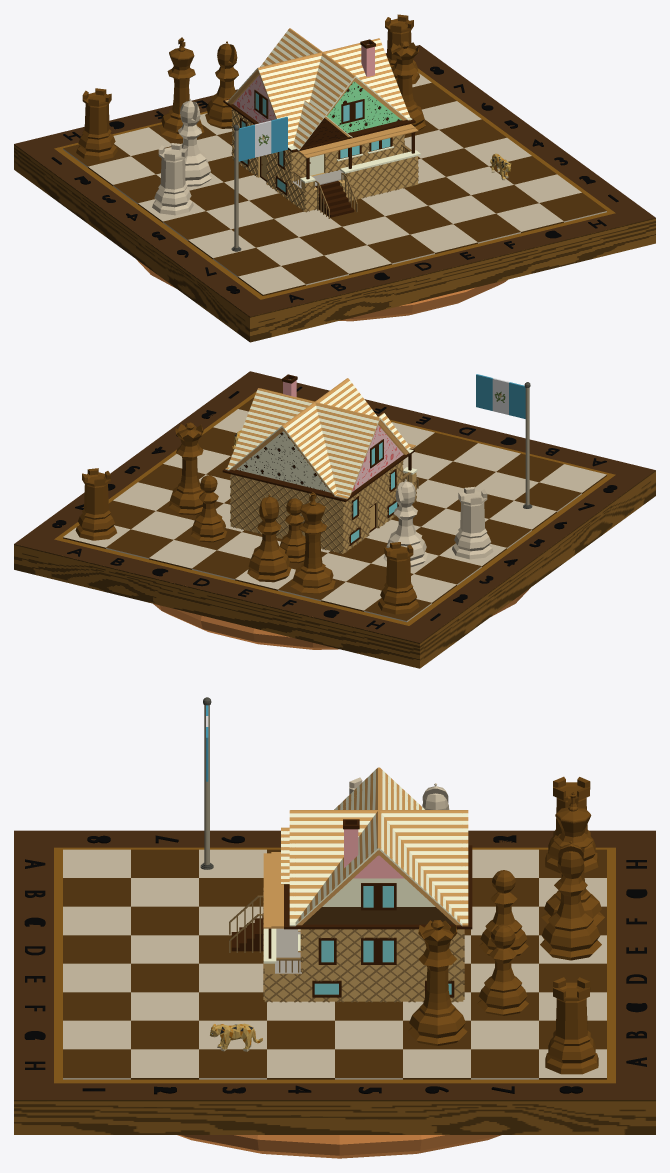
3 views of the same model, one above another, from view 1: azimuth 30°, elevation 25°; view 2: azimuth 150°, elevation 25°; view 3: azimuth 270°, elevation 25° (orthographic). The views are drawn at different scales.
Visible parts, largest first — view 1: Cube.002, Cube.1102, OBJRANDOM_GUATEMALAN_FLAG, UNDERGROUND_PIZZA; view 2: Cube.002, Cube.1102, OBJRANDOM_GUATEMALAN_FLAG, UNDERGROUND_PIZZA; view 3: Cube.002, Cube.1102, UNDERGROUND_PIZZA, OBJRANDOM_GUATEMALAN_FLAG, ANIMAL_JAGUAR.
Boxes of the visible parts, <box> form: Cube.002: <box>14,14,655,342</box>; Cube.1102: <box>223,28,420,218</box>; OBJRANDOM_GUATEMALAN_FLAG: <box>231,116,287,251</box>; UNDERGROUND_PIZZA: <box>136,259,507,321</box>; Cube.002: <box>14,371,655,668</box>; Cube.1102: <box>222,374,418,553</box>; OBJRANDOM_GUATEMALAN_FLAG: <box>476,374,532,508</box>; UNDERGROUND_PIZZA: <box>153,588,529,649</box>; Cube.002: <box>14,776,655,1134</box>; Cube.1102: <box>229,767,472,1002</box>; UNDERGROUND_PIZZA: <box>177,1135,501,1158</box>; OBJRANDOM_GUATEMALAN_FLAG: <box>200,697,213,869</box>; ANIMAL_JAGUAR: <box>210,1023,262,1051</box>.
Size of the model in its own units: 3981 by 1709 by 4012.
Materials: 34 (3 with a texture image).
